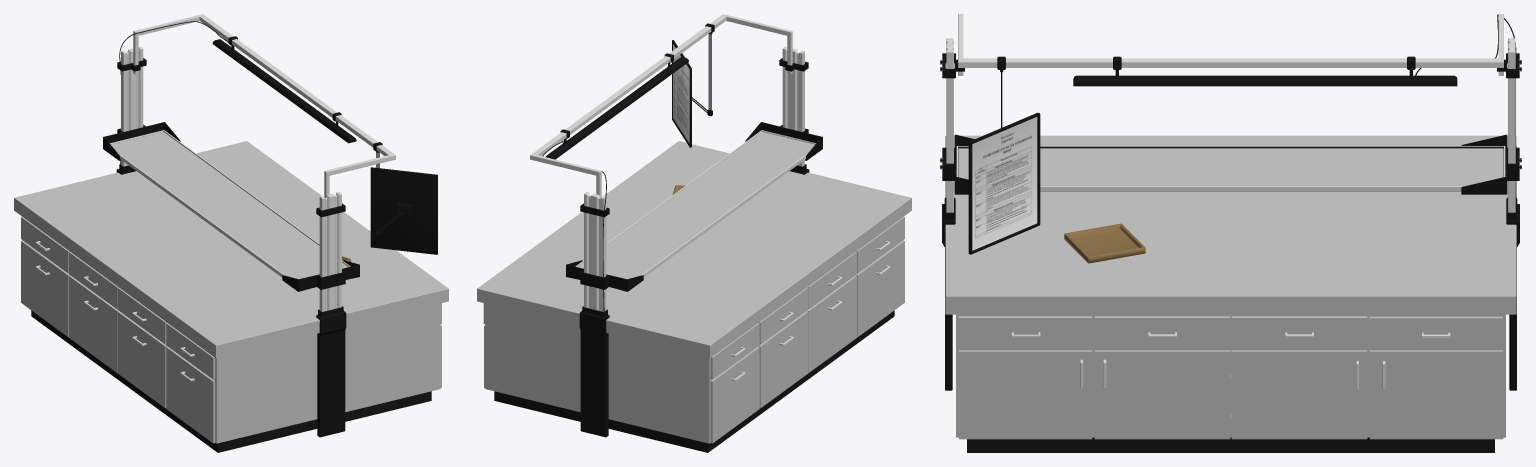
File: table_MAIN.fbx
3 views of the same model, side by side, from view 1: azimuth 30°, elevation 25°; view 2: azimuth 150°, elevation 25°; view 3: azimuth 270°, elevation 25° (orthographic). The views are drawn at different scales.
Parts seen in each view (by area): view 1: Table_main.002, Table_main.001, table_rack_part, table_rack_1, table_rack_doc, Table_rack_ramp, table_rack_lamp.001, table_rack_doc_fast; view 2: Table_main.002, Table_main.001, table_rack_part, table_rack_1, Table_rack_ramp, table_rack_lamp.001, table_rack_doc, table_rack_doc_fast; view 3: Table_main.002, table_rack_part, Table_main_door.017, Table_main_door.016, Table_main_door.015, Table_main_door.009, table_rack_doc, Table_rack_ramp, table_rack_lamp.001, Table_main_door.011, Table_main_door.013, Table_main_door.001 (+3 smaller).
Boxes of the visible parts, box(x1,y1,x2,y2) form: Table_main.002: box(14, 141, 448, 452); Table_main.001: box(21, 217, 215, 443); table_rack_part: box(103, 122, 359, 291); table_rack_1: box(116, 46, 346, 437); table_rack_doc: box(370, 167, 437, 254); Table_rack_ramp: box(117, 14, 395, 217); table_rack_lamp.001: box(119, 21, 356, 164); table_rack_doc_fast: box(373, 142, 403, 234); Table_main.002: box(477, 141, 911, 452); Table_main.001: box(710, 217, 904, 443); table_rack_part: box(566, 122, 822, 291); table_rack_1: box(579, 46, 809, 437); Table_rack_ramp: box(530, 14, 808, 217); table_rack_lamp.001: box(542, 53, 688, 311); table_rack_doc: box(672, 40, 691, 147); table_rack_doc_fast: box(692, 23, 714, 116); Table_main.002: box(945, 135, 1516, 452); table_rack_part: box(940, 134, 1521, 194); Table_main_door.017: box(1094, 350, 1231, 439); Table_main_door.016: box(1231, 350, 1367, 439); Table_main_door.015: box(1370, 350, 1503, 439); Table_main_door.009: box(959, 350, 1092, 439); table_rack_doc: box(968, 112, 1040, 254); Table_rack_ramp: box(940, 14, 1521, 78); table_rack_lamp.001: box(1073, 14, 1516, 198); Table_main_door.011: box(1369, 316, 1502, 349); Table_main_door.013: box(1231, 316, 1367, 348); Table_main_door.001: box(1094, 316, 1230, 348).
Size of the model in its own units: 2.04 by 2.13 by 3.06.
